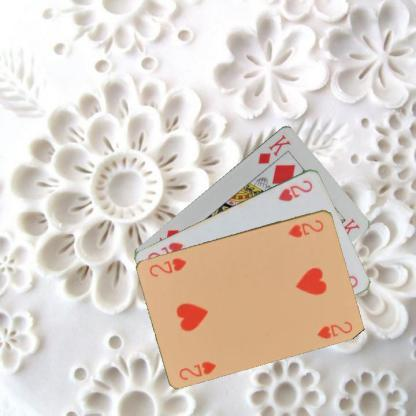2h: (276, 177, 314, 203), (177, 358, 218, 381), (286, 216, 326, 238)
Kd: (255, 132, 292, 166)
